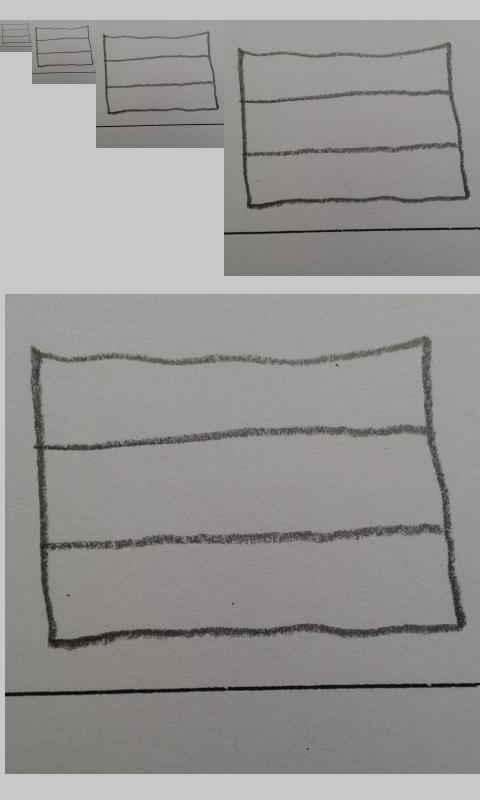list_view: (30, 340, 465, 651), (238, 43, 471, 211), (101, 31, 221, 116), (34, 24, 94, 69), (1, 23, 31, 45)
